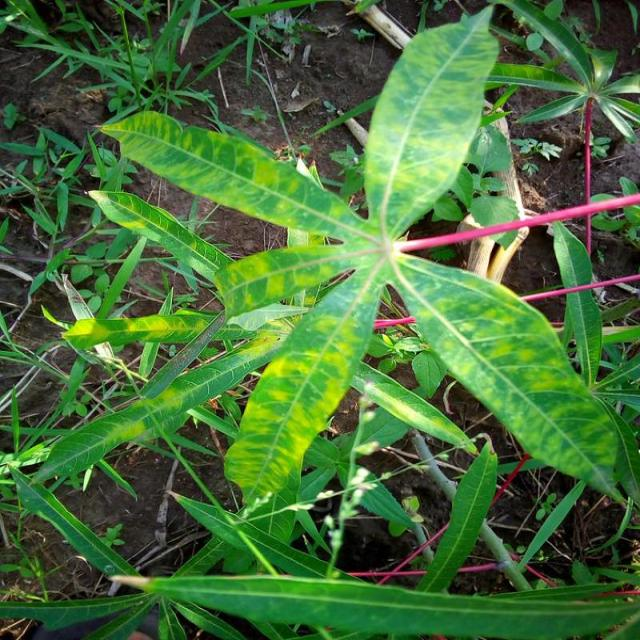cassava leaf: (77, 6, 635, 529), (362, 3, 500, 241)
